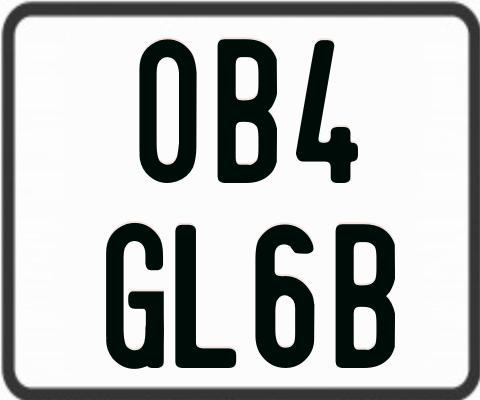0: (138, 37, 196, 187)
4: (296, 40, 360, 187)
6: (255, 222, 320, 367)
B: (216, 38, 281, 183), (336, 223, 399, 372)
G: (106, 222, 170, 369)
L: (175, 224, 238, 373)
